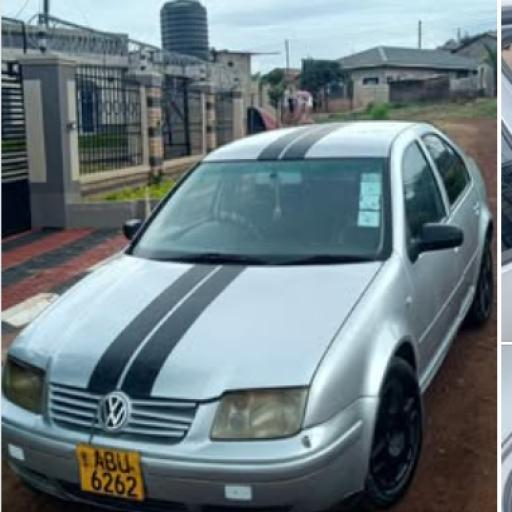number-plates: (72, 442, 143, 502)
